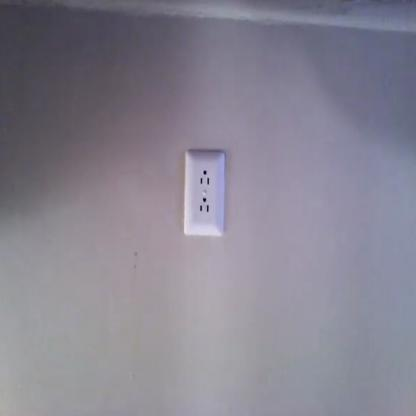OUTLET: (182, 148, 226, 237)
